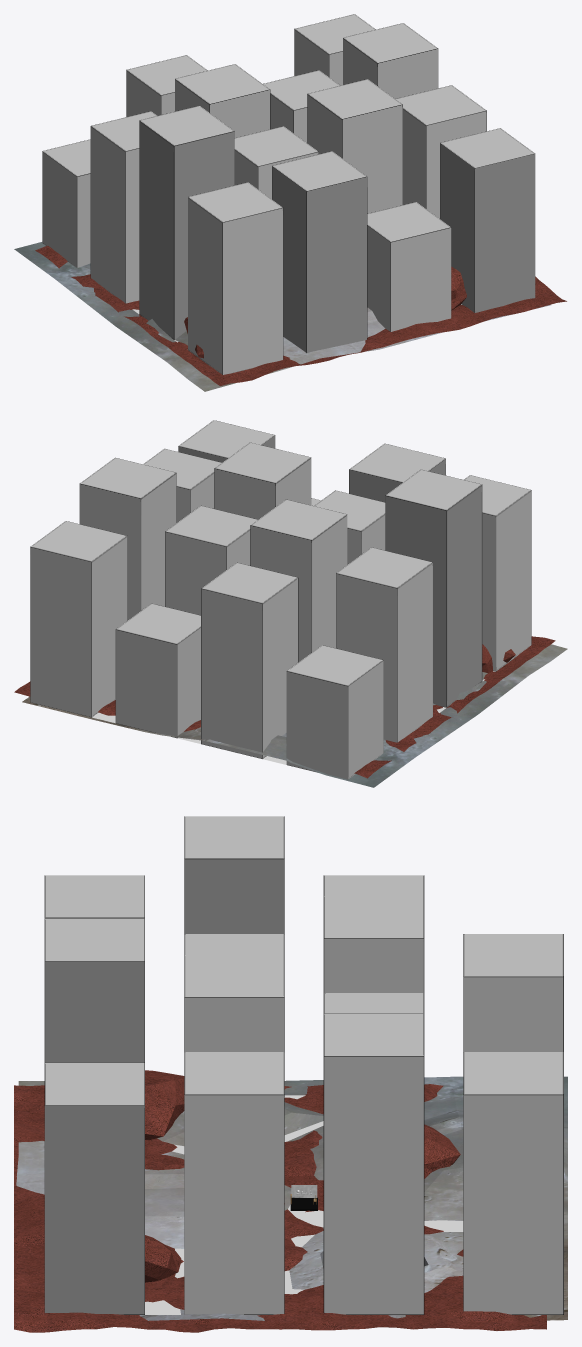
Rendered from pendulum_scene.glb.
3 views of the same model, one above another, from view 1: azimuth 30°, elevation 25°; view 2: azimuth 150°, elevation 25°; view 3: azimuth 270°, elevation 25° (orthographic). The views are drawn at different scales.
Visible parts, largest first — view 1: Earth Surface, Mars Surface, Moon Surface; view 2: Earth Surface, Moon Surface, Mars Surface; view 3: Earth Surface, Mars Surface, Moon Surface.
Part boxes in pixels (x1=…): Earth Surface: x1=42, y1=14, x2=535, y2=374; Mars Surface: x1=35, y1=245, x2=566, y2=385; Moon Surface: x1=14, y1=242, x2=550, y2=391; Earth Surface: x1=30, y1=420, x2=531, y2=779; Moon Surface: x1=22, y1=644, x2=567, y2=787; Mars Surface: x1=14, y1=636, x2=555, y2=778; Earth Surface: x1=44, y1=816, x2=563, y2=1314; Mars Surface: x1=14, y1=1070, x2=546, y2=1332; Moon Surface: x1=16, y1=1076, x2=567, y2=1320.
Bounding box in the file's own units: 439 × 260 × 405.
Materials: 10 (7 with a texture image).
